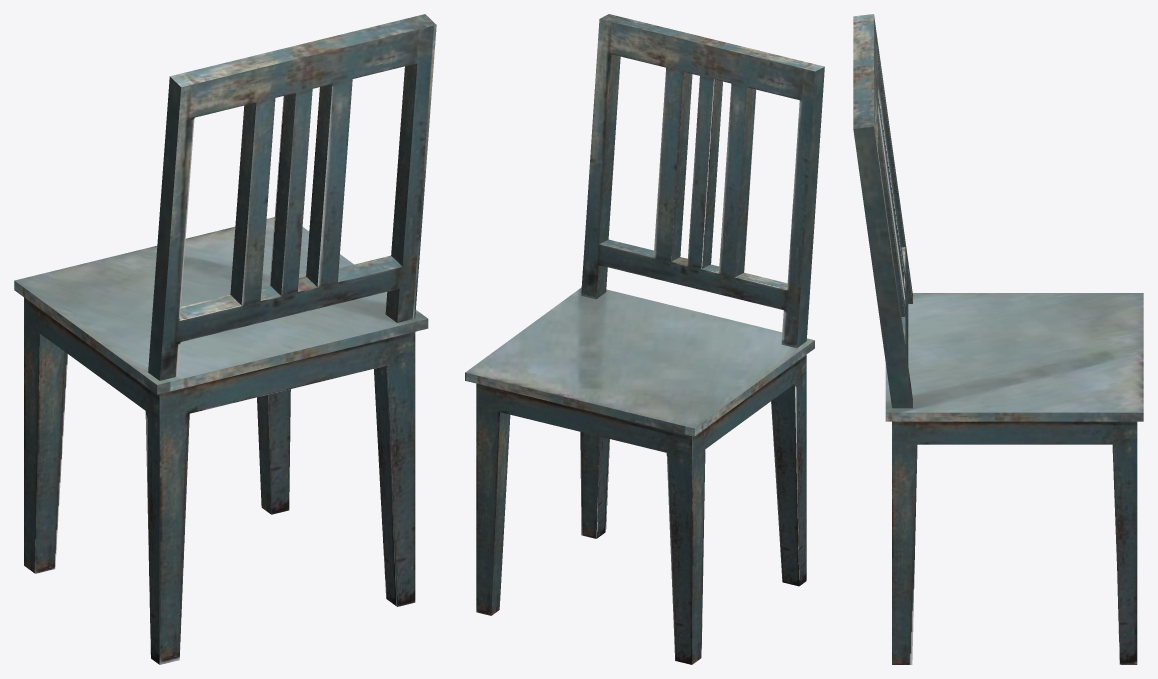
3 renders of one model, left to right at view 1: azimuth 30°, elevation 25°; view 2: azimuth 150°, elevation 25°; view 3: azimuth 270°, elevation 25°, orthographic. The views are drawn at different scales.
Parts seen in each view (by area): view 1: mesh2_mesh2-geometry_2, mesh1_mesh1-geometry_4, mesh1_mesh1-geometry, mesh2_mesh2-geometry, mesh1_mesh1-geometry_3, mesh2_mesh2-geometry_3, mesh1_mesh1-geometry_2; view 2: mesh2_mesh2-geometry_2, mesh1_mesh1-geometry, mesh1_mesh1-geometry_4, mesh2_mesh2-geometry, mesh1_mesh1-geometry_3, mesh1_mesh1-geometry_2, mesh2_mesh2-geometry_3; view 3: mesh1_mesh1-geometry, mesh1_mesh1-geometry_3, mesh2_mesh2-geometry_4, mesh2_mesh2-geometry_2, mesh1_mesh1-geometry_2, mesh2_mesh2-geometry_3.
Boxes of the visible parts, x1,y1,x2,y2 form: mesh2_mesh2-geometry_2: (159,25,436,380); mesh1_mesh1-geometry_4: (35,332,415,664); mesh1_mesh1-geometry: (14,217,427,384); mesh2_mesh2-geometry: (148,63,417,380); mesh1_mesh1-geometry_3: (24,297,397,664); mesh2_mesh2-geometry_3: (170,14,436,320); mesh1_mesh1-geometry_2: (14,281,428,394); mesh2_mesh2-geometry_2: (581,19,814,348); mesh1_mesh1-geometry: (465,287,814,428); mesh1_mesh1-geometry_4: (476,383,799,664); mesh2_mesh2-geometry: (596,54,824,347); mesh1_mesh1-geometry_3: (491,355,806,664); mesh1_mesh1-geometry_2: (465,340,814,436); mesh2_mesh2-geometry_3: (599,14,824,289); mesh1_mesh1-geometry: (885,293,1143,412); mesh1_mesh1-geometry_3: (892,421,1137,664); mesh2_mesh2-geometry_4: (853,54,912,408); mesh2_mesh2-geometry_2: (874,15,912,406); mesh1_mesh1-geometry_2: (885,412,1143,421); mesh2_mesh2-geometry_3: (853,14,905,343).
Size of the model in its own units: 0.3936 by 0.8259 by 0.4037.
Materials: 9 (8 with a texture image).
